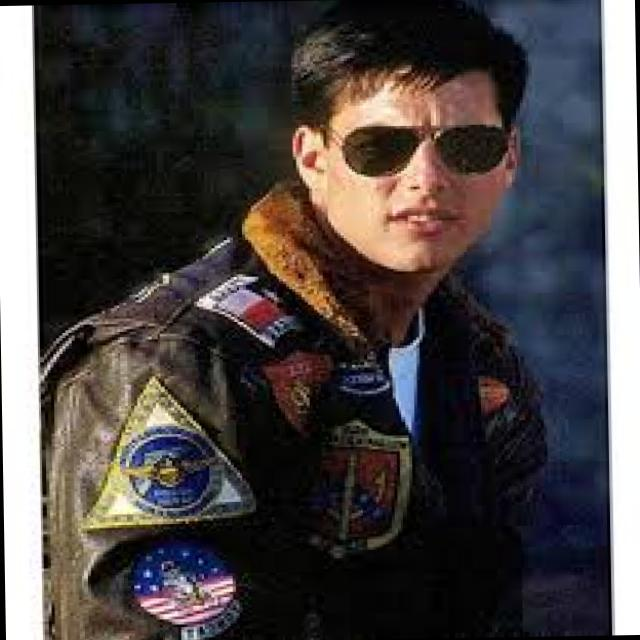Jacket: (35, 244, 597, 640)
